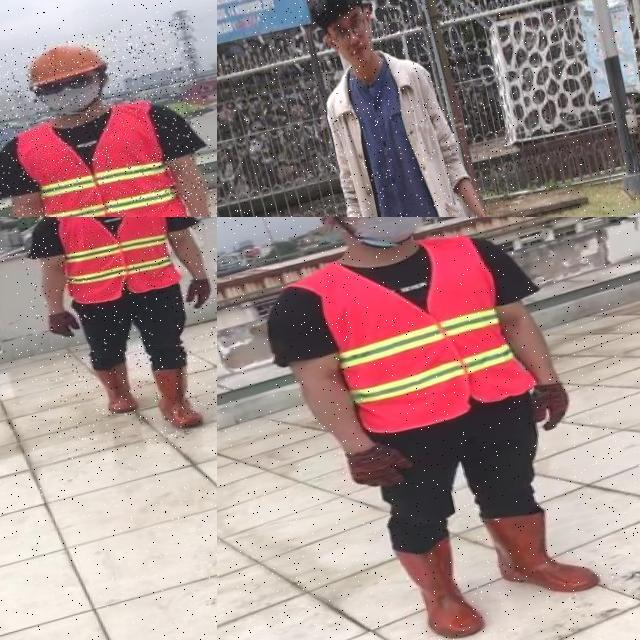boots: (479, 494, 604, 608), (393, 531, 488, 640), (148, 359, 208, 434), (91, 360, 140, 418)
helmet: (18, 35, 110, 90)
vest: (314, 229, 534, 439), (12, 98, 186, 217), (49, 217, 184, 308)
